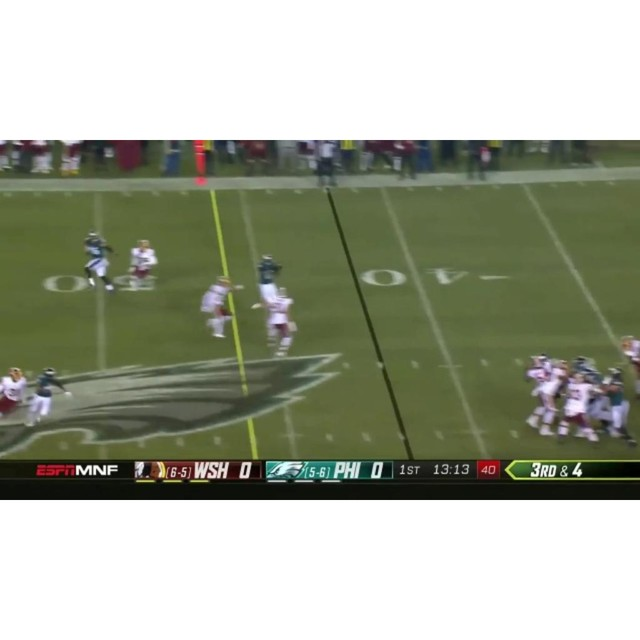american-football-player: (521, 354, 563, 436), (597, 365, 636, 446), (558, 370, 598, 444), (26, 367, 70, 427), (200, 276, 240, 340), (261, 287, 297, 357), (81, 229, 116, 293), (127, 238, 159, 291), (1, 366, 28, 428), (254, 253, 284, 304), (619, 334, 640, 402)
